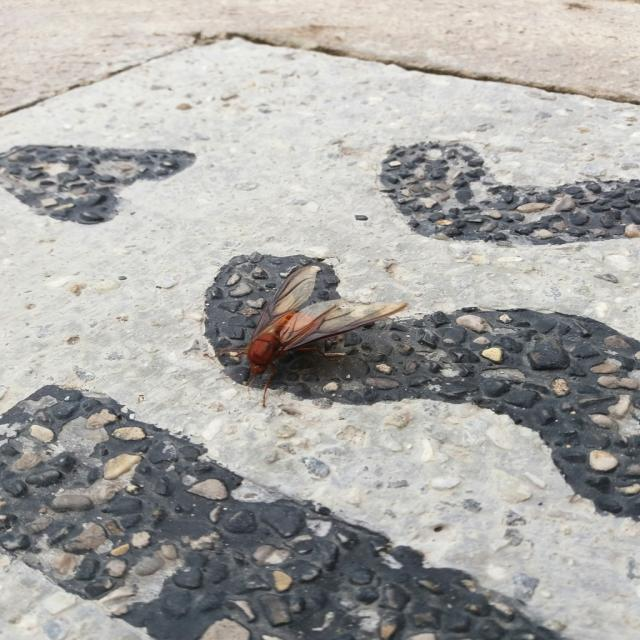Alive-Male-Alate: (203, 265, 408, 407)
